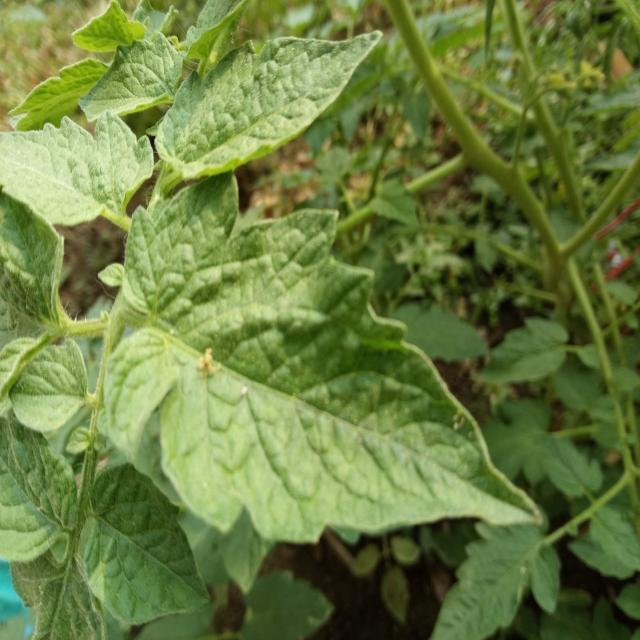Healthy: (34, 119, 541, 640), (132, 0, 403, 200), (0, 107, 161, 235)
